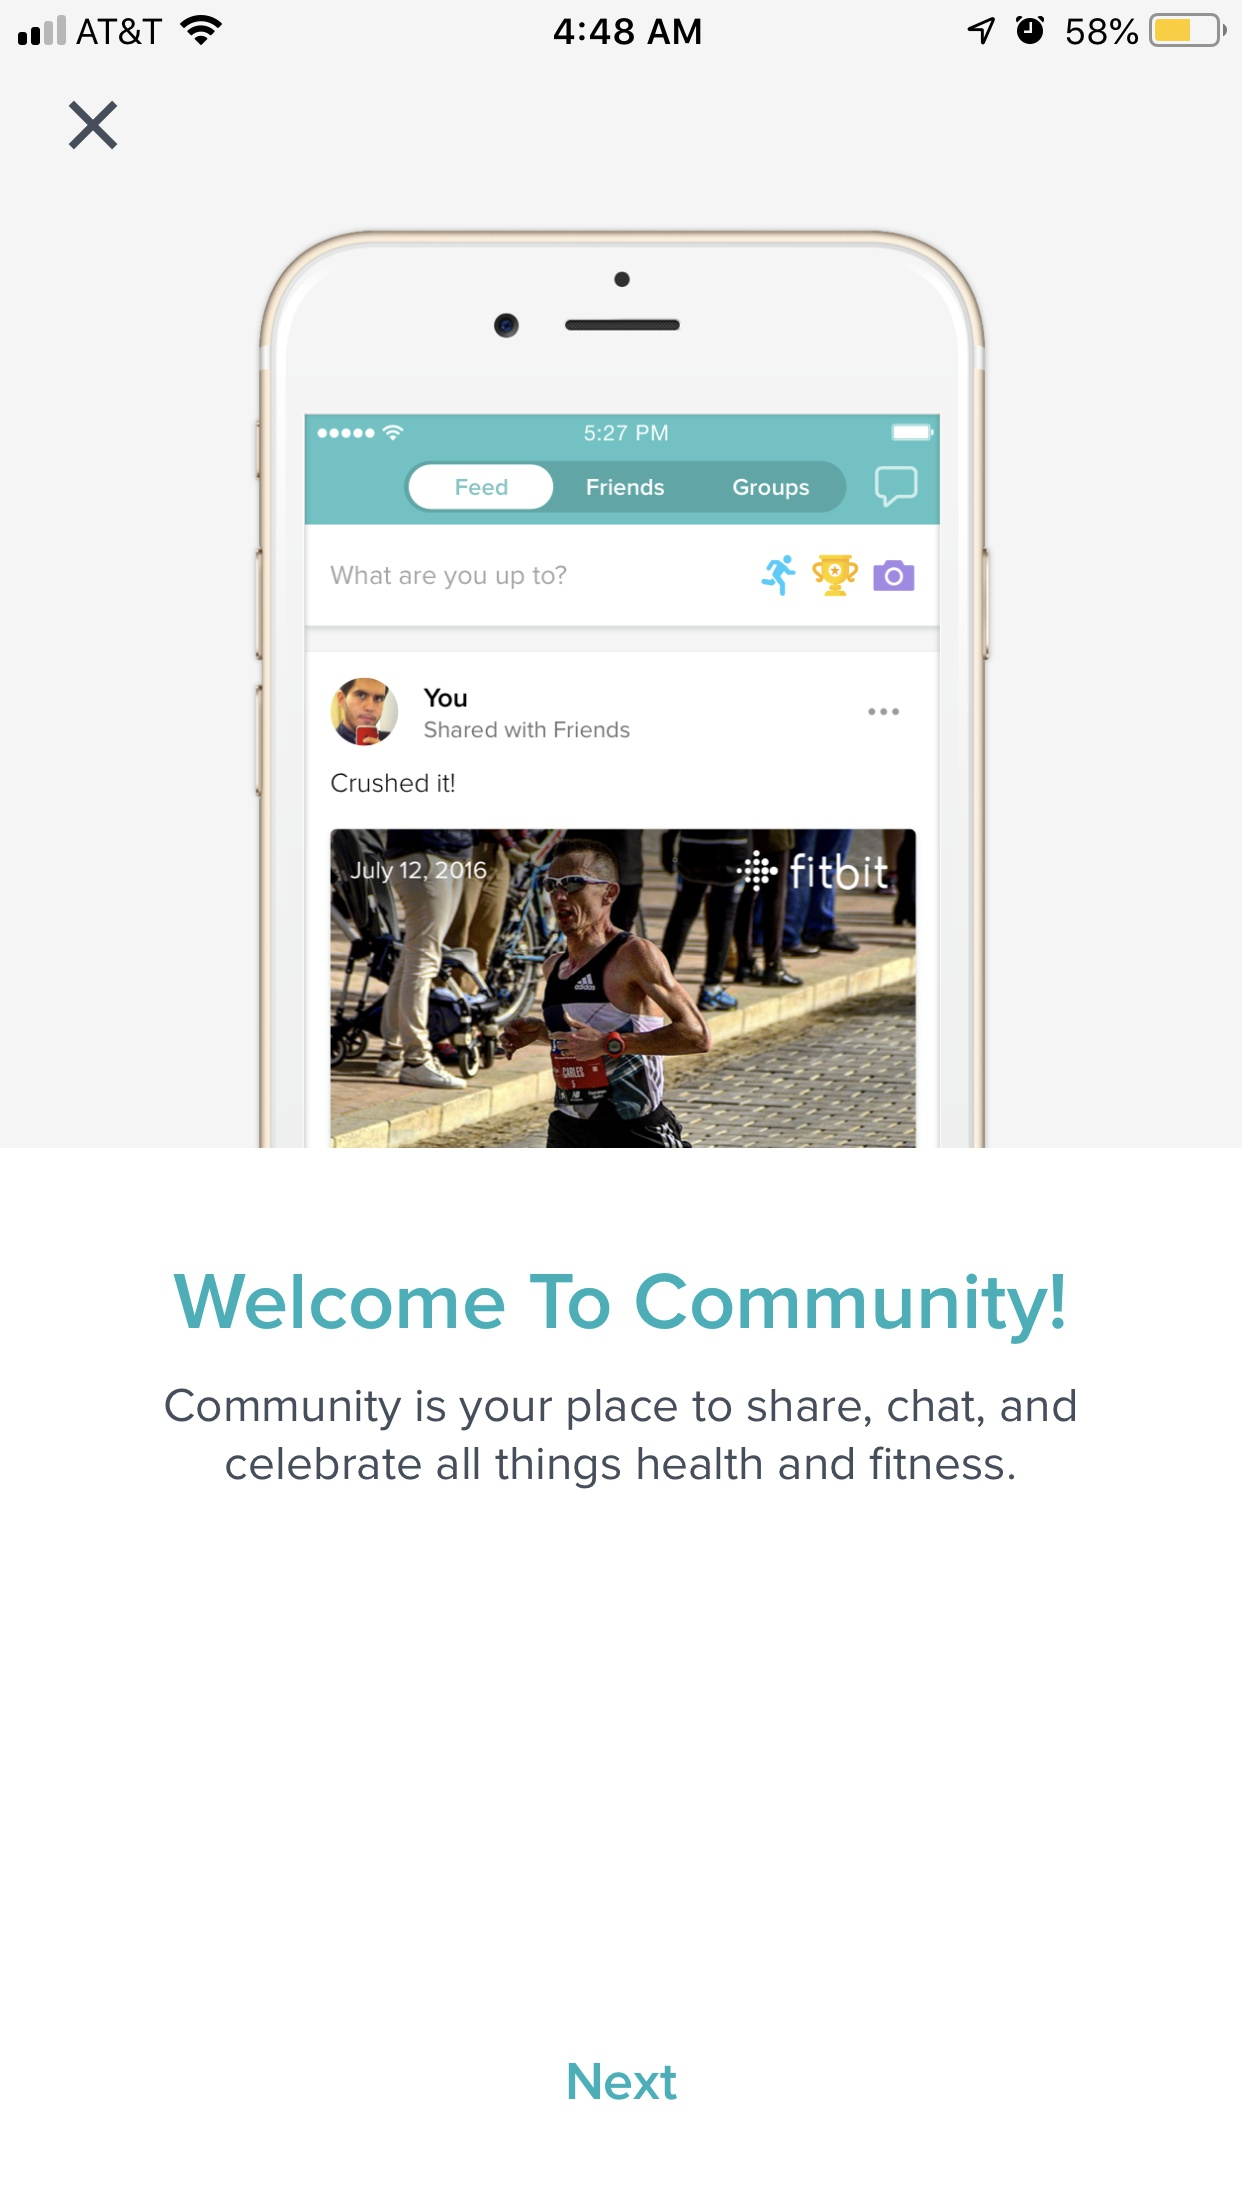Icon: (70, 102, 118, 152)
Image: (256, 231, 992, 1148)
Text: (165, 1388, 1077, 1491), (174, 1272, 1065, 1345), (569, 2062, 678, 2100)
UpperTaskBar: (2, 2, 1242, 49)
